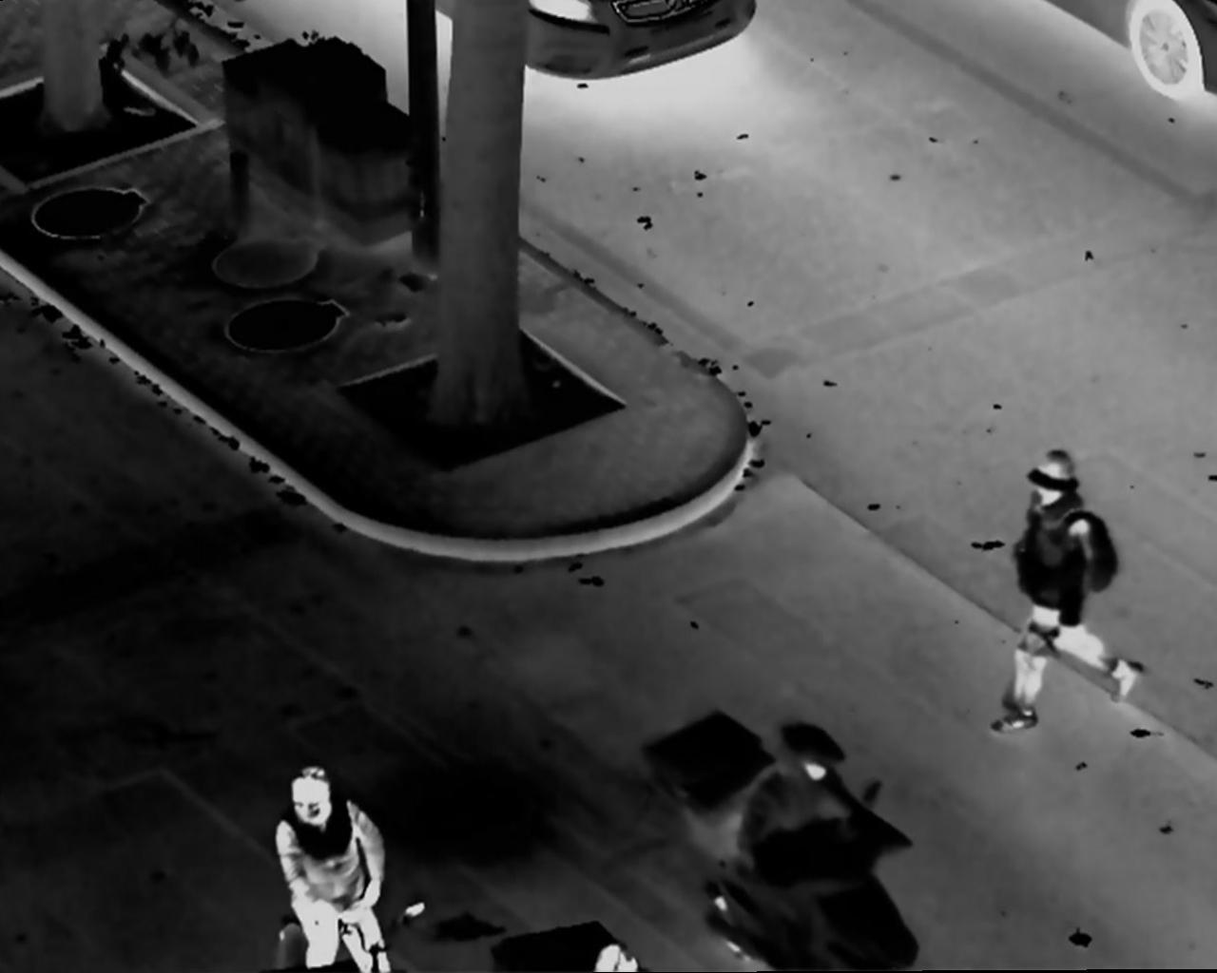person: (988, 440, 1142, 733), (267, 759, 402, 973), (734, 719, 883, 873)
